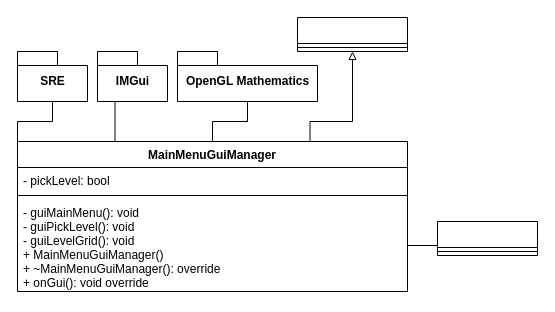
The diagram is 555 pixels wide and 312 high, and some of its shapes have lost their labels. Each missing label, with the centre of its shape:
GameManager: point 487,238
GuiManager: point 352,34
